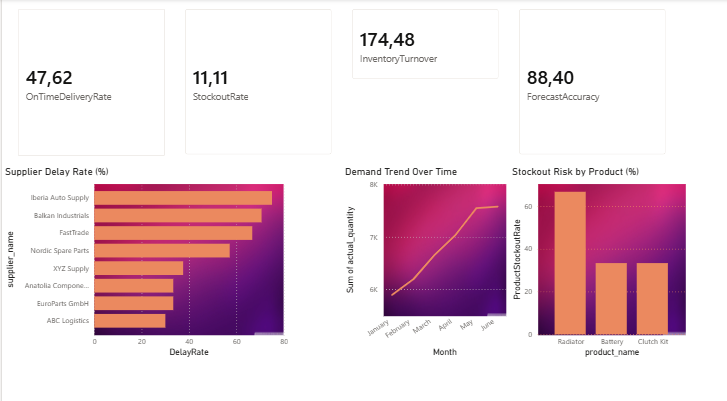

This screenshot's page, from the dashboard's own definition file:
{"tool":"powerbi","page":{"name":"Page 1","canvas":[1280,720],"ordinal":0},"visuals":[{"type":"cardVisual","title":"On-Time Delivery Rate","fields":{"Data":["purchase_order.OnTimeDeliveryRate"]},"box":[10,0,280,280],"z":0},{"type":"cardVisual","title":"Stockout Rate","fields":{"Data":["inventory.StockoutRate"]},"box":[290.6,0,280.5,278.8],"z":1},{"type":"cardVisual","title":"Inventory Turnover","fields":{"Data":["actual_demand.InventoryTurnover"]},"box":[571.1,0,280.5,151.2],"z":2},{"type":"cardVisual","fields":{"Data":["forecast.ForecastAccuracy"]},"box":[851.7,0,280.5,278.8],"z":3},{"type":"clusteredBarChart","title":"Supplier Delay Rate (%)","fields":{"Y":["supplier.DelayRate"],"Category":["supplier.supplier_name"]},"box":[0,278.8,485.5,327.6],"z":4},{"type":"lineChart","title":"Demand Trend Over Time","fields":{"Category":["actual_demand.demand_period.Variation.Date Hierarchy.Month"],"Y":["Sum(actual_demand.actual_quantity)"]},"box":[571.1,278.8,280.5,327.6],"z":5},{"type":"clusteredColumnChart","title":"Stockout Risk by Product (%)","fields":{"Y":["product.ProductStockoutRate"],"Category":["product.product_name"]},"box":[851.7,278.8,302.4,327.6],"z":6}]}

Visuals, with their boxes in screenshot pixels (x1, y1, x2, y2), scaled from the page's 1280x720 canvas onto the 727x401 screenshot:
"On-Time Delivery Rate" cardVisual: bbox=(6, 0, 165, 156)
"Stockout Rate" cardVisual: bbox=(165, 0, 324, 155)
"Inventory Turnover" cardVisual: bbox=(324, 0, 484, 84)
cardVisual - forecast.ForecastAccuracy: bbox=(484, 0, 643, 155)
"Supplier Delay Rate (%)" clusteredBarChart: bbox=(0, 155, 276, 338)
"Demand Trend Over Time" lineChart: bbox=(324, 155, 484, 338)
"Stockout Risk by Product (%)" clusteredColumnChart: bbox=(484, 155, 655, 338)
